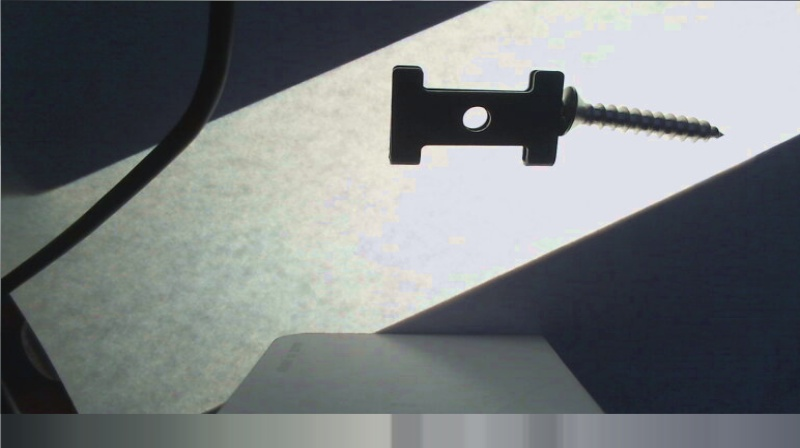O002: (387, 64, 563, 166)
S001: (562, 84, 723, 140)
